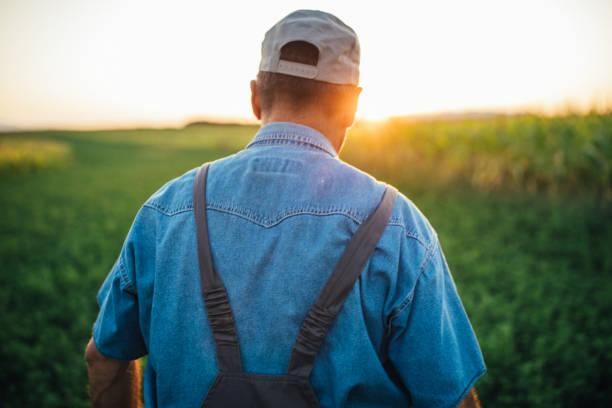NoHuman: (0, 2, 612, 405)
